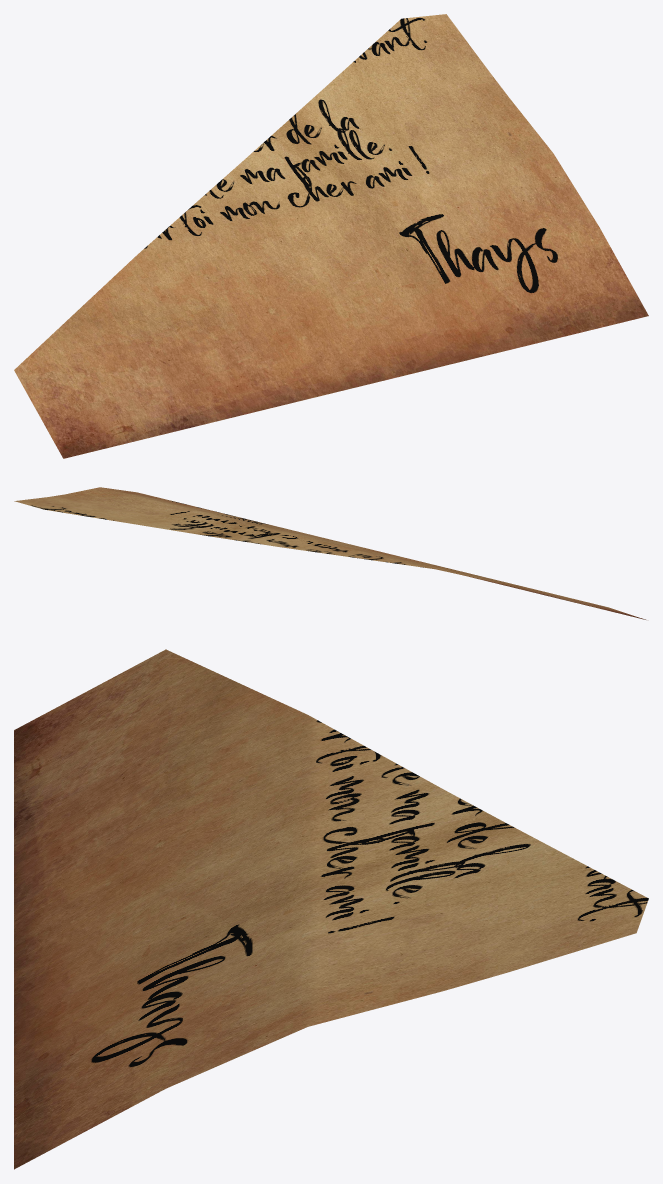
Rendered from lettre_partie5.fbx.
3 views of the same model, one above another, from view 1: azimuth 30°, elevation 25°; view 2: azimuth 150°, elevation 25°; view 3: azimuth 270°, elevation 25° (orthographic). The views are drawn at different scales.
Parts seen in each view (by area): view 1: polySurface1; view 2: polySurface1; view 3: polySurface1.
Part boxes in pixels (x1=…): polySurface1: x1=14, y1=14, x2=648, y2=458; polySurface1: x1=14, y1=487, x2=645, y2=619; polySurface1: x1=14, y1=649, x2=648, y2=1169.
Bounding box in the file's own units: 5.08 × 1.3 × 3.1.
